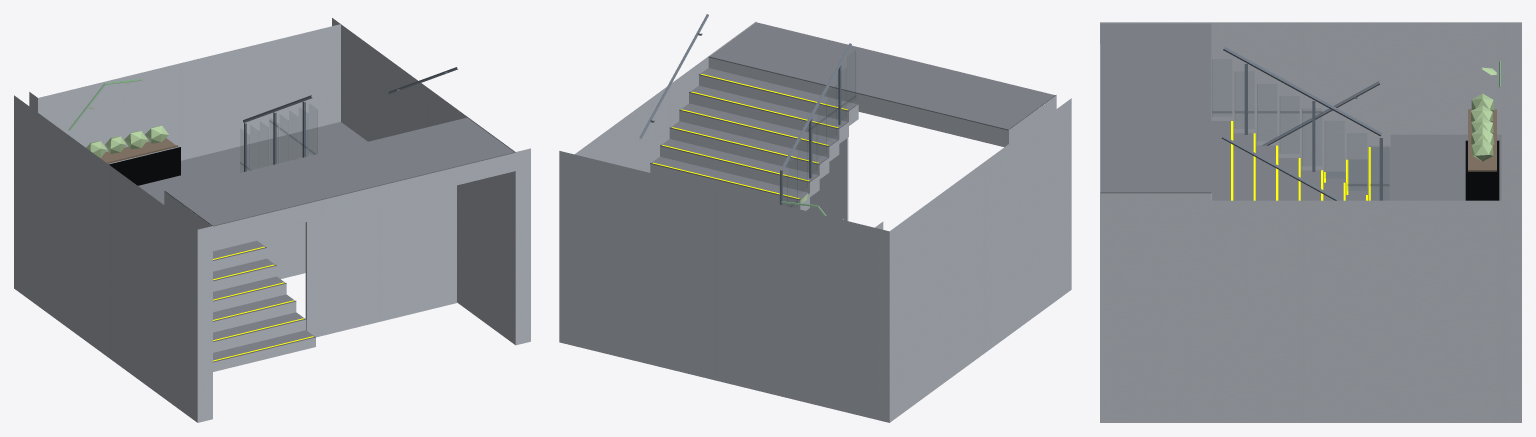
3 views of the same model, side by side, from view 1: azimuth 30°, elevation 25°; view 2: azimuth 150°, elevation 25°; view 3: azimuth 270°, elevation 25° (orthographic). The views are drawn at different scales.
Parts seen in each view (by area): view 1: Core_Walls, Understair_Screen, Top_Landing_Slate, Top_Landing, Flight1_Cast, Mid_Landing_Slate, Treads_Slate, Mid_Landing, Planter_Trough, Foliage, Nosing_Emergency, Planter_Soil (+2 smaller); view 2: Core_Walls, Top_Landing_Slate, Flight2_Modules, Treads_Slate, Top_Landing, Understair_Screen, Nosing_Emergency, Guard_Posts, Guard_Glass_Centre, Guard_Cap_Rail, Handrail_Wall; view 3: Core_Walls, Top_Landing_Slate, Treads_Slate, Mid_Landing_Slate, Foliage, Planter_Trough, Nosing_Emergency, Handrail_Wall, Top_Landing, Guard_Cap_Rail, Guard_Posts, Planter_Soil (+1 smaller).
Part boxes in pixels (<box>): Core_Walls: <box>14,18,530,422</box>; Understair_Screen: <box>305,185,456,337</box>; Top_Landing_Slate: <box>164,117,515,226</box>; Top_Landing: <box>164,153,515,244</box>; Flight1_Cast: <box>213,234,315,371</box>; Mid_Landing_Slate: <box>138,122,367,204</box>; Treads_Slate: <box>213,240,315,362</box>; Mid_Landing: <box>257,222,305,279</box>; Planter_Trough: <box>109,147,180,185</box>; Foliage: <box>86,125,168,157</box>; Nosing_Emergency: <box>213,246,313,361</box>; Planter_Soil: <box>100,138,177,163</box>; Core_Walls: <box>559,21,1071,422</box>; Top_Landing_Slate: <box>708,22,1056,130</box>; Flight2_Modules: <box>650,75,858,210</box>; Treads_Slate: <box>650,68,858,200</box>; Top_Landing: <box>708,57,1056,147</box>; Understair_Screen: <box>806,138,848,220</box>; Nosing_Emergency: <box>652,74,847,198</box>; Guard_Posts: <box>780,65,841,205</box>; Guard_Glass_Centre: <box>787,50,855,206</box>; Guard_Cap_Rail: <box>782,43,851,168</box>; Handrail_Wall: <box>639,14,708,138</box>; Core_Walls: <box>1100,22,1521,422</box>; Top_Landing_Slate: <box>1100,23,1211,193</box>; Treads_Slate: <box>1211,121,1390,200</box>; Mid_Landing_Slate: <box>1390,134,1501,200</box>; Foliage: <box>1471,93,1494,161</box>; Planter_Trough: <box>1465,140,1499,200</box>; Nosing_Emergency: <box>1231,121,1370,200</box>; Handrail_Wall: <box>1221,81,1379,200</box>; Top_Landing: <box>1100,44,1210,200</box>; Guard_Cap_Rail: <box>1223,47,1382,136</box>; Guard_Posts: <box>1244,64,1382,200</box>; Planter_Soil: <box>1468,109,1496,171</box>.
Size of what is drawn, in the model's own units: 5.5 by 3.9 by 5.25.
9 materials, 4 textured.
